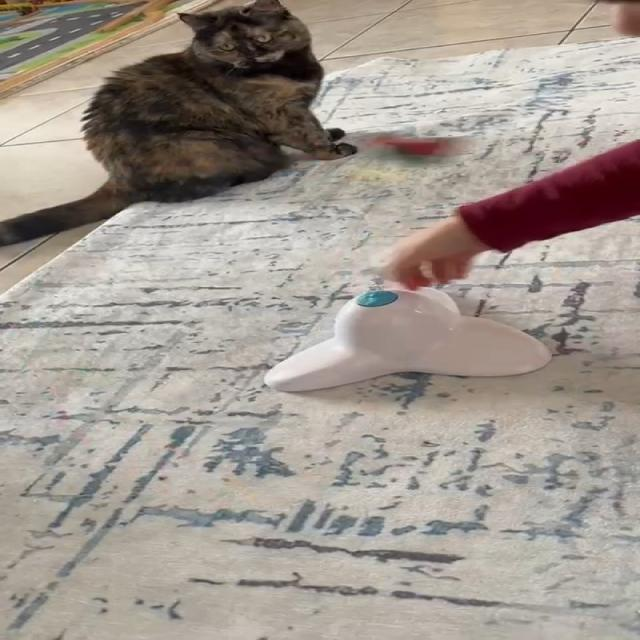authorized: (0, 0, 357, 247)
